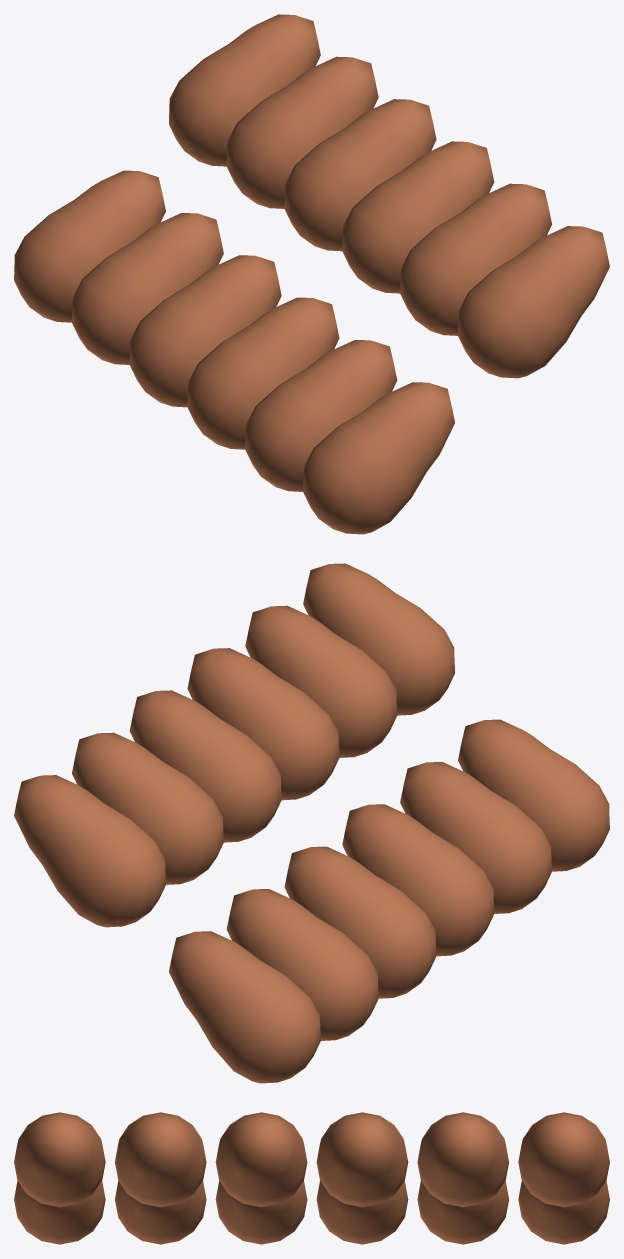
File: food-skewer-4.glb
The picture shows the model from 3 angles, top to bottom: view 1: azimuth 30°, elevation 25°; view 2: azimuth 150°, elevation 25°; view 3: azimuth 270°, elevation 25°; orthographic projection. The views are drawn at different scales.
Parts seen in each view (by area): view 1: Object_57; view 2: Object_57; view 3: Object_57.
Boxes of the visible parts, x1,y1,x2,y2 form: Object_57: (14,14,609,534); Object_57: (14,563,609,1083); Object_57: (14,1112,609,1244).
Size of the model in its own units: 0.2954 by 0.2362 by 0.5901.
1 material, 1 textured.
